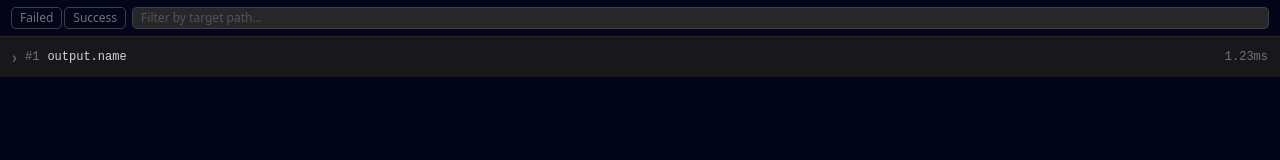
Test: TraceDisplay › shows "no results" message when filter matches nothing
Click the button with test id "status-chip-failed".
click(37, 18)  # box [12,8,61,28]
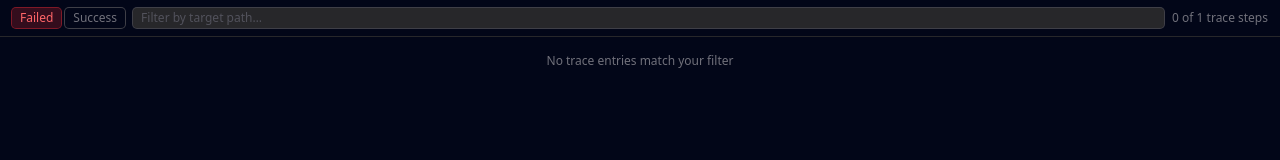
Now the element with test id "trace-no-results" is shown, box [546,52,734,69]
